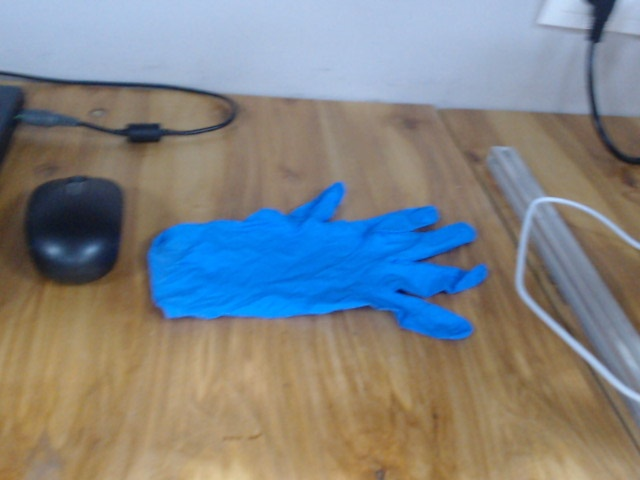medical_glove: (146, 181, 487, 344)
